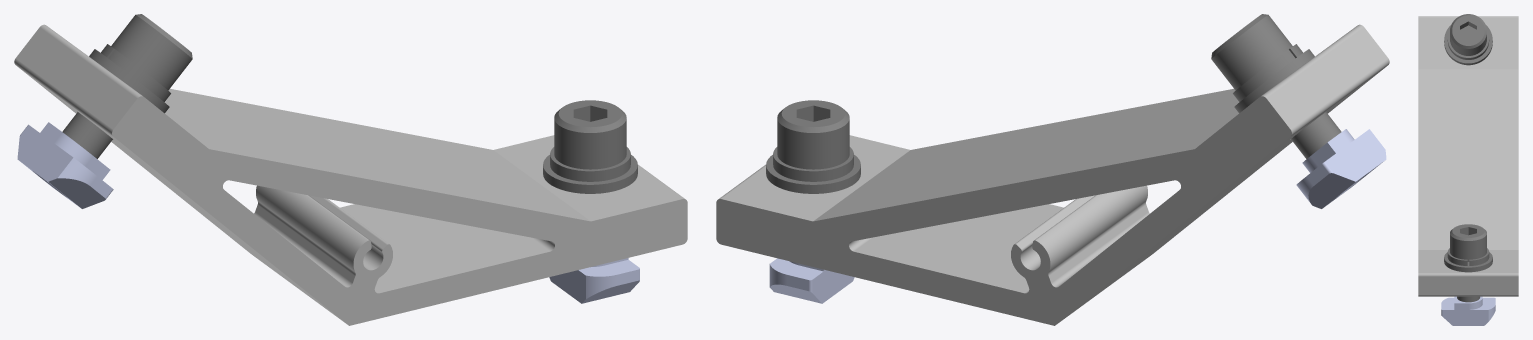
The model's file is TPGZ-TPGZ-4510-70A35-Z-ZP.glb.
The picture shows the model from 3 angles, left to right: view 1: azimuth 30°, elevation 25°; view 2: azimuth 150°, elevation 25°; view 3: azimuth 270°, elevation 25°; orthographic projection. The views are drawn at different scales.
Visible parts, largest first — view 1: NAUO1, NAUO2, NAUO4, NAUO5, NAUO3; view 2: NAUO1, NAUO2, NAUO4, NAUO5, NAUO3; view 3: NAUO1, NAUO2, NAUO4, NAUO3.
Boxes of the visible parts, left/top/right/bottom form: NAUO1: left=14, top=24, right=687, bottom=325; NAUO2: left=543, top=100, right=637, bottom=193; NAUO4: left=62, top=14, right=192, bottom=158; NAUO5: left=17, top=122, right=113, bottom=208; NAUO3: left=549, top=258, right=639, bottom=303; NAUO1: left=716, top=24, right=1389, bottom=325; NAUO2: left=766, top=100, right=860, bottom=193; NAUO4: left=1211, top=14, right=1341, bottom=158; NAUO5: left=1296, top=129, right=1386, bottom=208; NAUO3: left=769, top=258, right=854, bottom=303; NAUO1: left=1418, top=16, right=1518, bottom=296; NAUO2: left=1444, top=224, right=1492, bottom=302; NAUO4: left=1444, top=14, right=1492, bottom=65; NAUO3: left=1441, top=296, right=1495, bottom=325.
Bounding box in the file's own units: 0.1254 × 0.0745 × 0.035.
